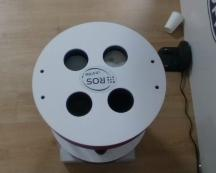hole: (66, 90, 94, 117), (107, 88, 135, 114), (62, 47, 90, 71), (102, 44, 129, 68)
